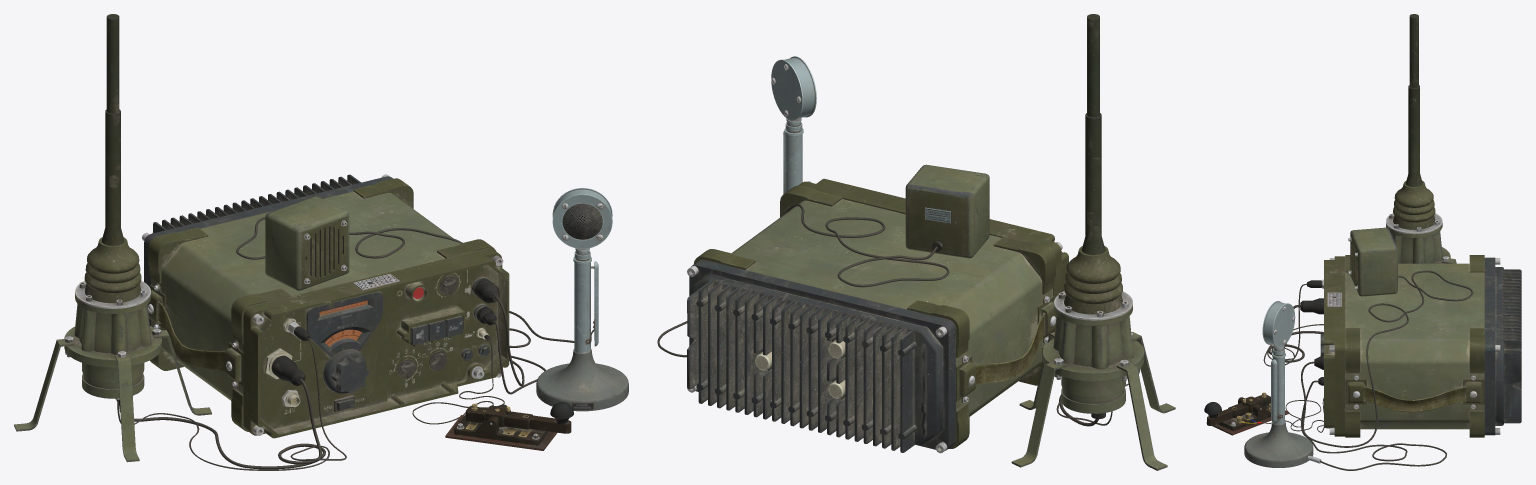
The model's file is vintage_radio_transceiver.glb.
3 views of the same model, side by side, from view 1: azimuth 30°, elevation 25°; view 2: azimuth 150°, elevation 25°; view 3: azimuth 270°, elevation 25° (orthographic). The views are drawn at different scales.
Visible parts, largest first — view 1: vintage_radio_transceiver, vintage_radio_transceiver_cable; view 2: vintage_radio_transceiver, vintage_radio_transceiver_cable; view 3: vintage_radio_transceiver, vintage_radio_transceiver_cable.
Boxes of the visible parts, x1=… form: vintage_radio_transceiver: x1=142, y1=174, x2=509, y2=438; vintage_radio_transceiver_cable: x1=14, y1=14, x2=628, y2=470; vintage_radio_transceiver: x1=687, y1=178, x2=1068, y2=453; vintage_radio_transceiver_cable: x1=657, y1=14, x2=1175, y2=470; vintage_radio_transceiver: x1=1320, y1=255, x2=1521, y2=437; vintage_radio_transceiver_cable: x1=1204, y1=14, x2=1473, y2=470.
Size of the model in its own units: 0.574 by 0.4344 by 0.4131.
2 materials, 2 textured.
